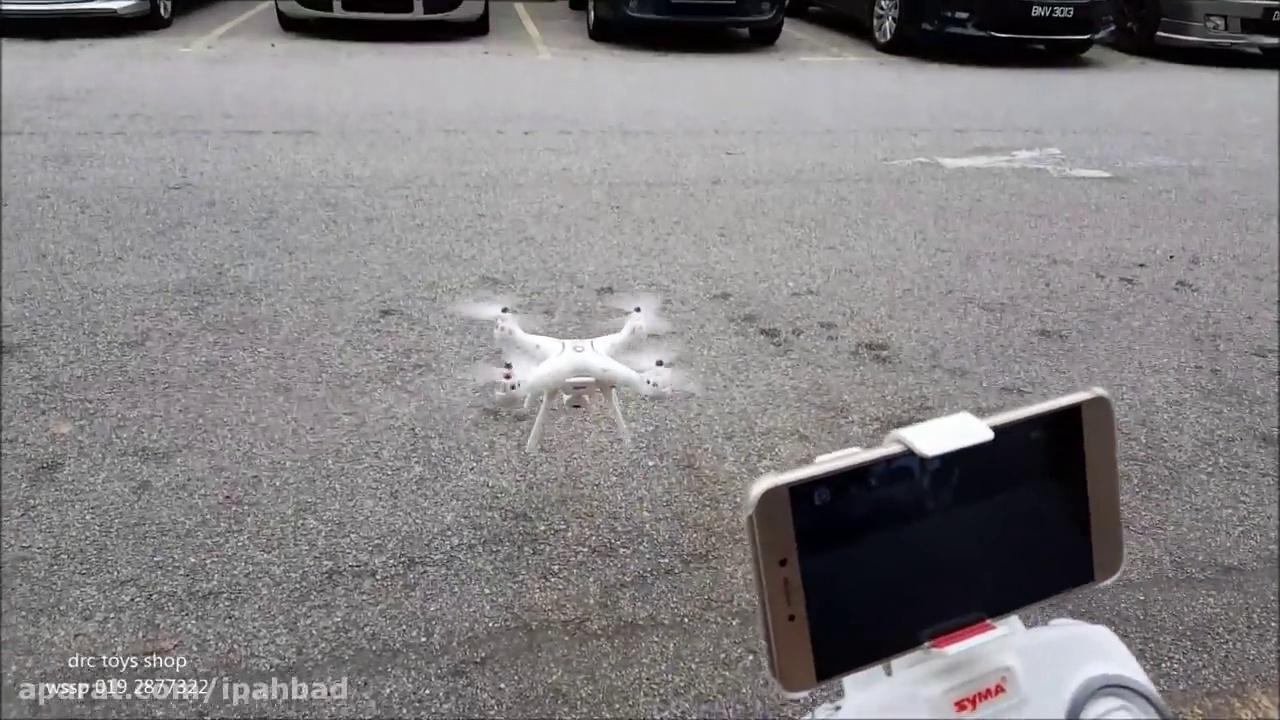drone: (449, 285, 694, 456)
